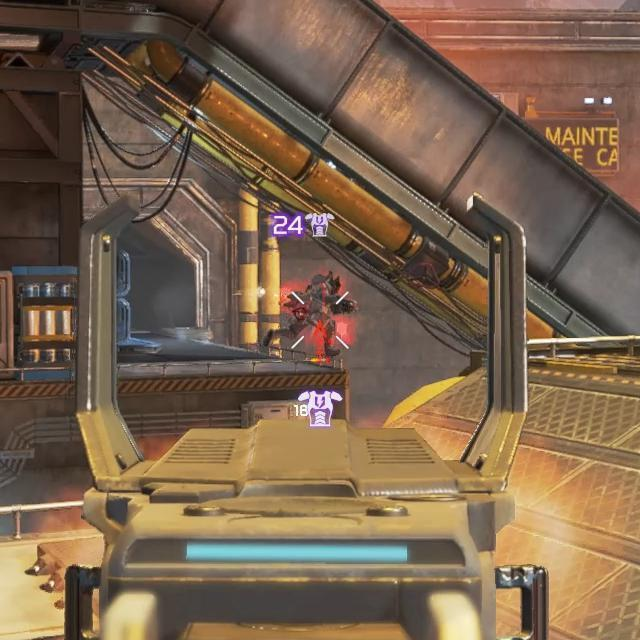avatar: (281, 269, 360, 361)
